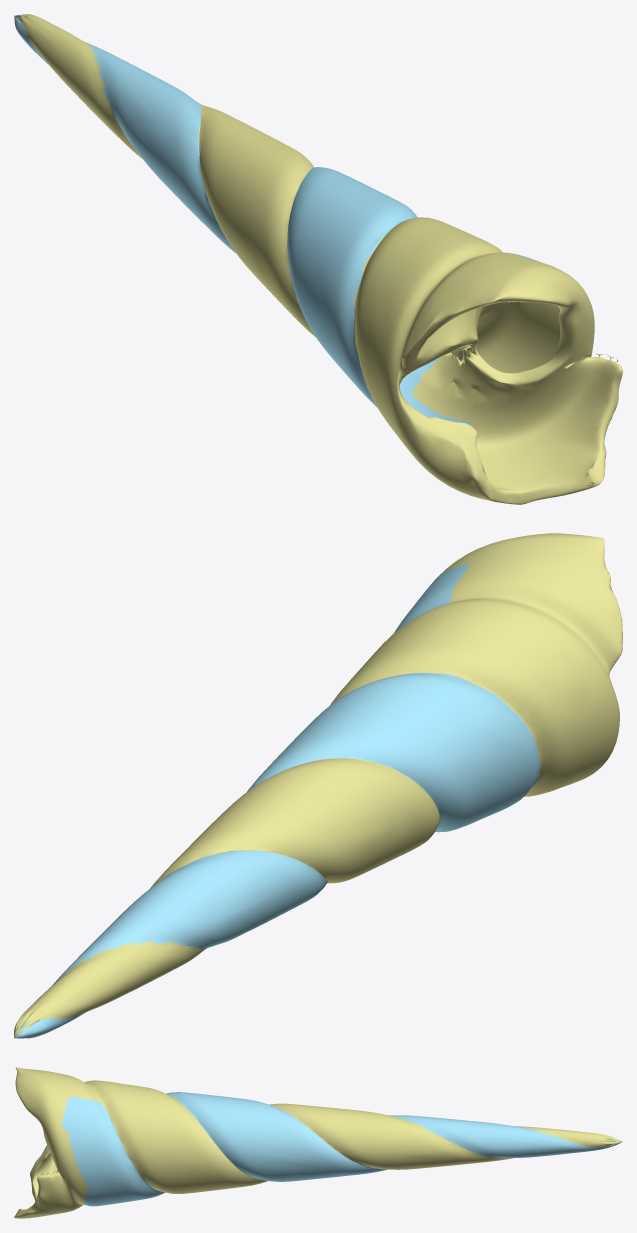
Rendered from UnicHorn.fbx.
3 views of the same model, one above another, from view 1: azimuth 30°, elevation 25°; view 2: azimuth 150°, elevation 25°; view 3: azimuth 270°, elevation 25° (orthographic). The views are drawn at different scales.
Parts seen in each view (by area): view 1: Plane.010; view 2: Plane.010; view 3: Plane.010.
Part boxes in pixels (<box>): Plane.010: <box>14,14,622,504</box>; Plane.010: <box>14,533,622,1038</box>; Plane.010: <box>14,1067,622,1218</box>.
Size of the model in its own units: 328 by 351 by 1447.
